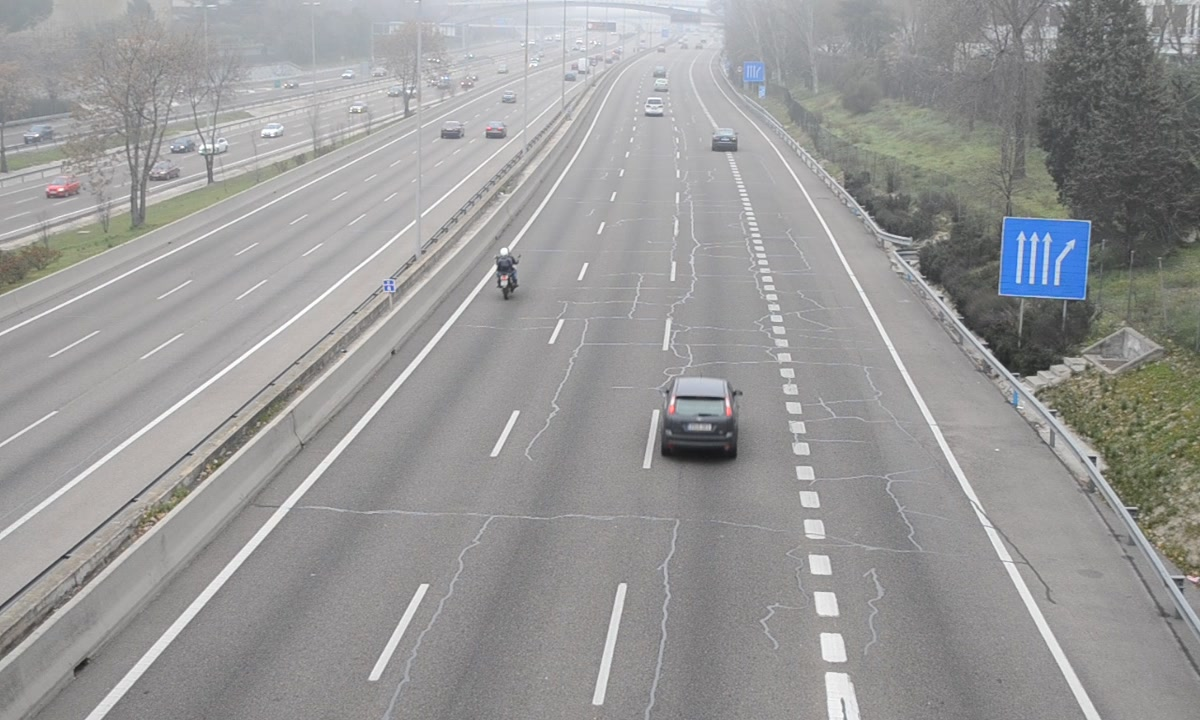car: (660, 377, 742, 459), (712, 129, 737, 151), (645, 97, 664, 117)
motorcycle: (491, 248, 521, 305)
